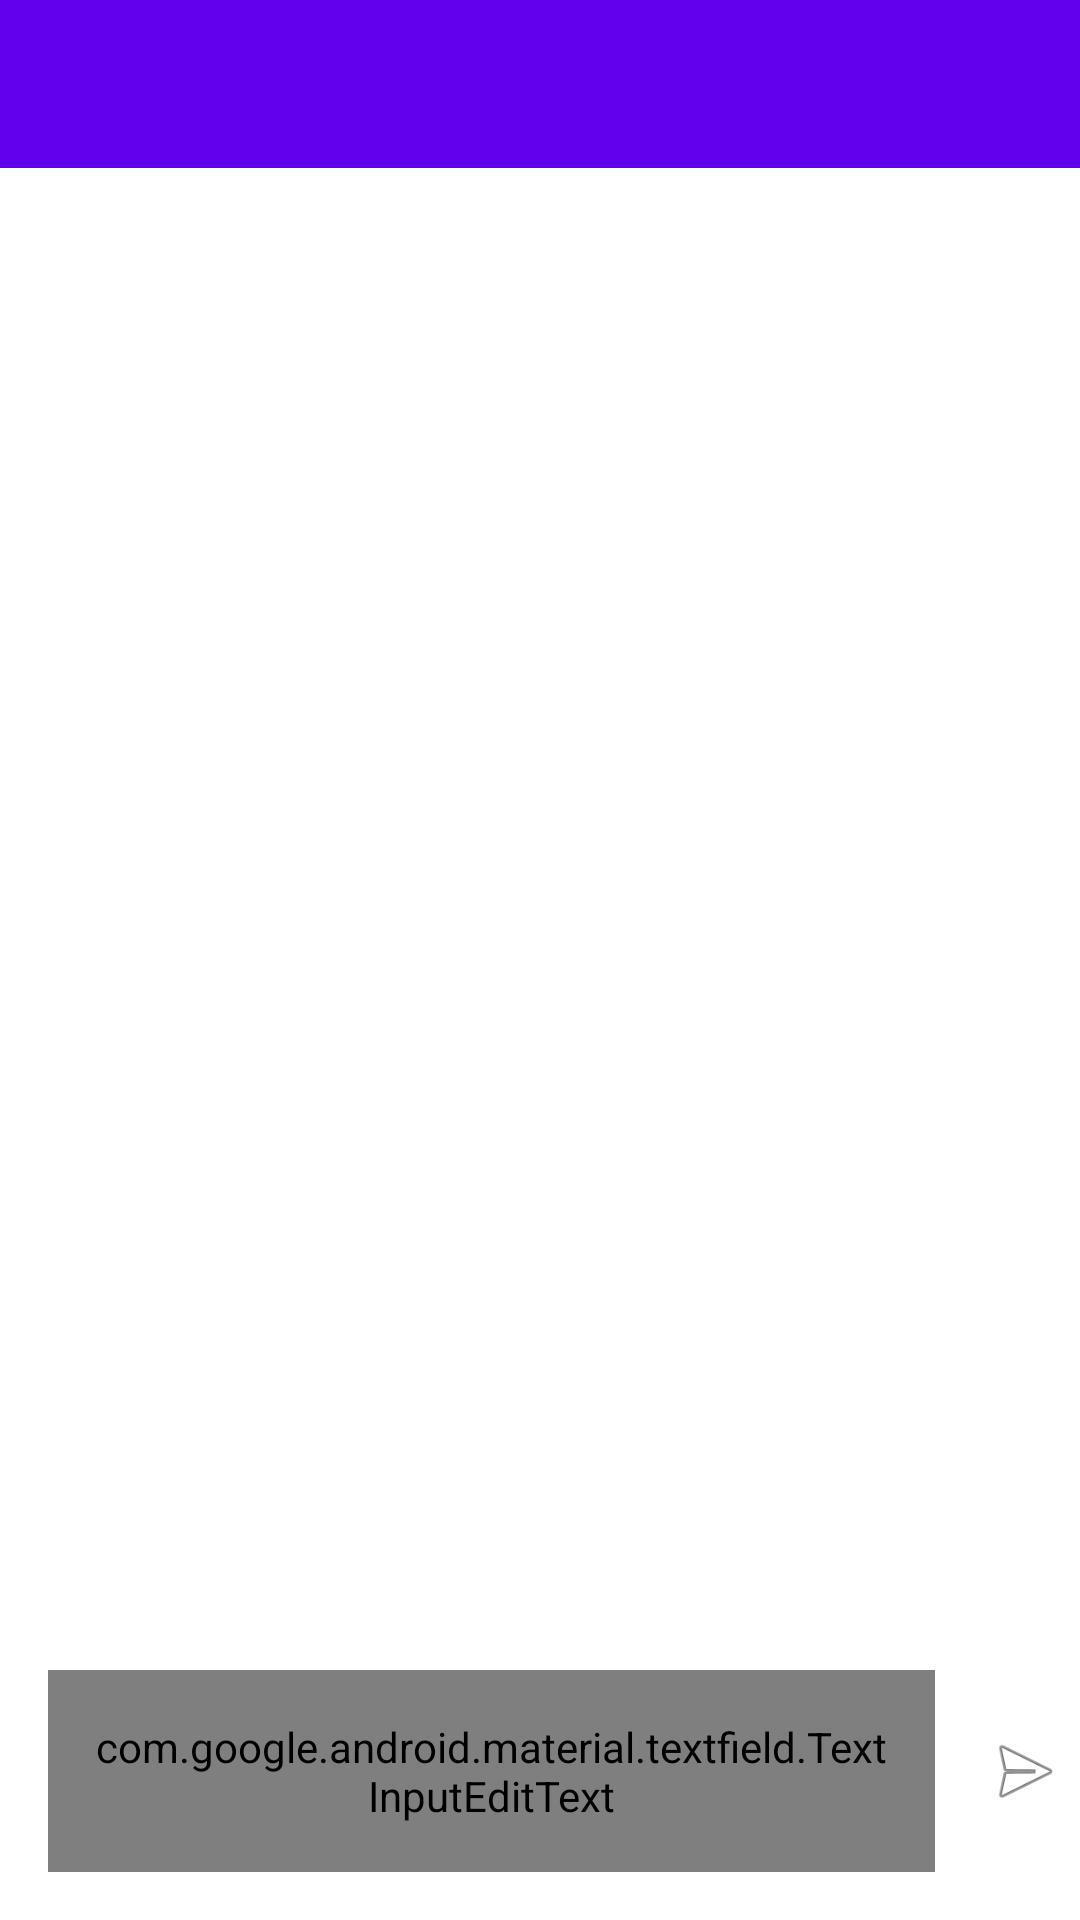

Screen size 1080×1920. Icon name, then its box in pixels as Rect(x1, y1, x2, y2):
send: Rect(999, 1745, 1053, 1798)
